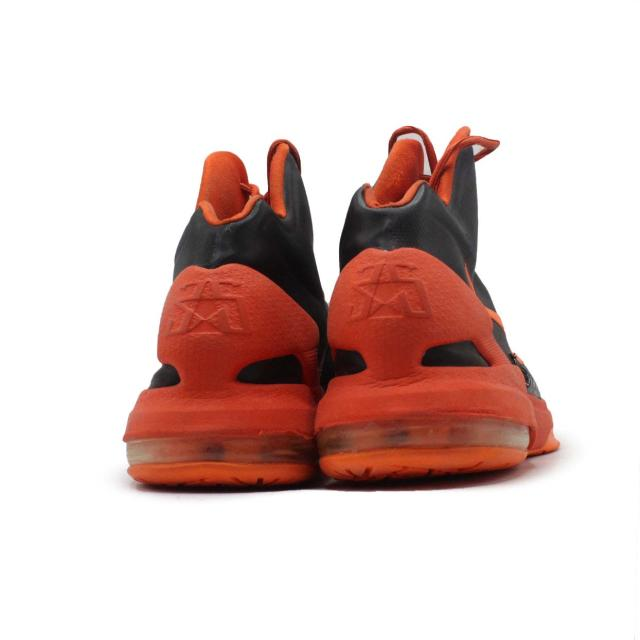heel: (323, 161, 499, 380), (162, 149, 308, 389)
midsole: (310, 367, 524, 473), (123, 387, 325, 483)
